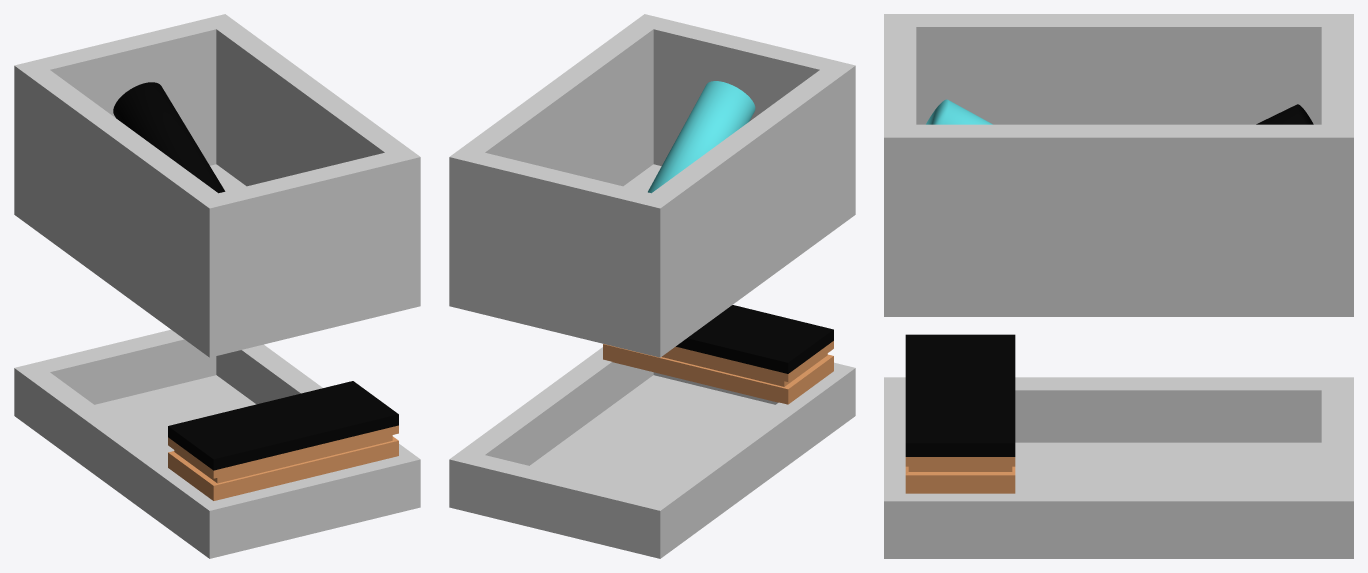
The model's file is soporte de borradores y tizas.fbx.
3 renders of one model, left to right at view 1: azimuth 30°, elevation 25°; view 2: azimuth 150°, elevation 25°; view 3: azimuth 270°, elevation 25°, orthographic. The views are drawn at different scales.
Visible parts, largest first — view 1: Cube.001; view 2: Cube.001; view 3: Cube.001.
Boxes of the visible parts, x1,y1,x2,y2 form: Cube.001: (14,14,420,558); Cube.001: (449,14,855,558); Cube.001: (884,14,1353,558).
Bounding box in the file's own units: 228 × 362 × 366.
